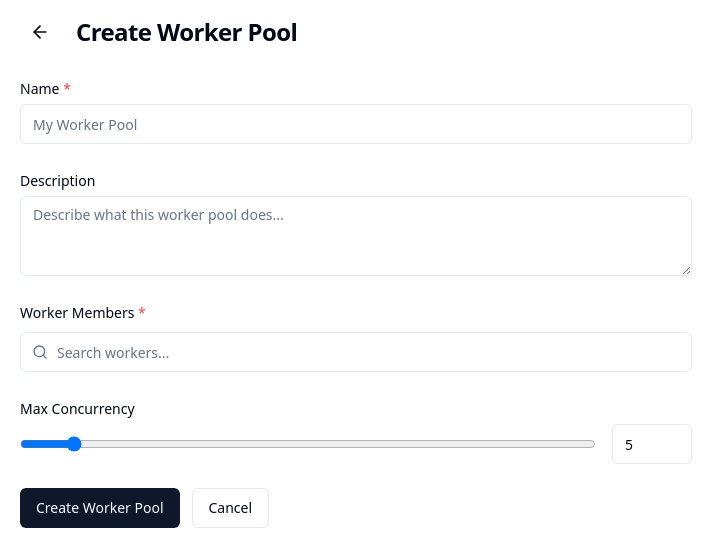
Test: WorkerPoolCreatePage › Worker member selector › shows dropdown with workers when search input is focused
Step 1. Click the field labelled "Search workers..." → (356, 352), box [20,332,692,372]
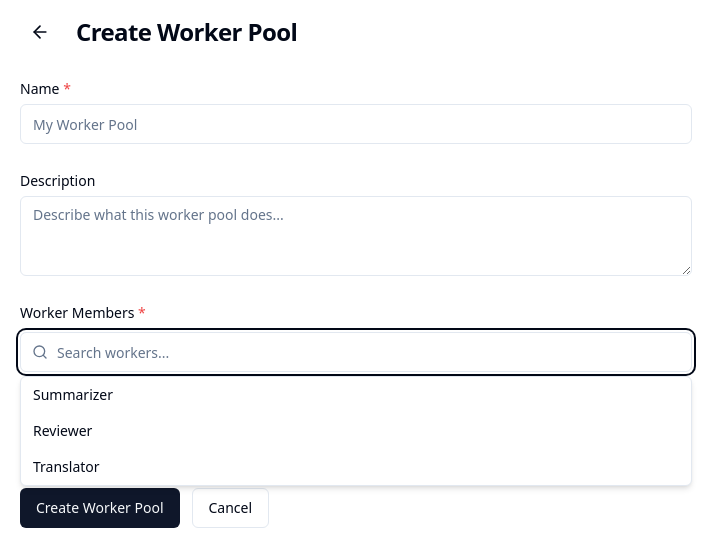
expect the text "Summarizer" is shown: met, box [33,385,113,404]
expect the text "Reviewer" is shown: met, box [33,421,92,440]
expect the text "Translator" is shown: met, box [33,457,100,476]
